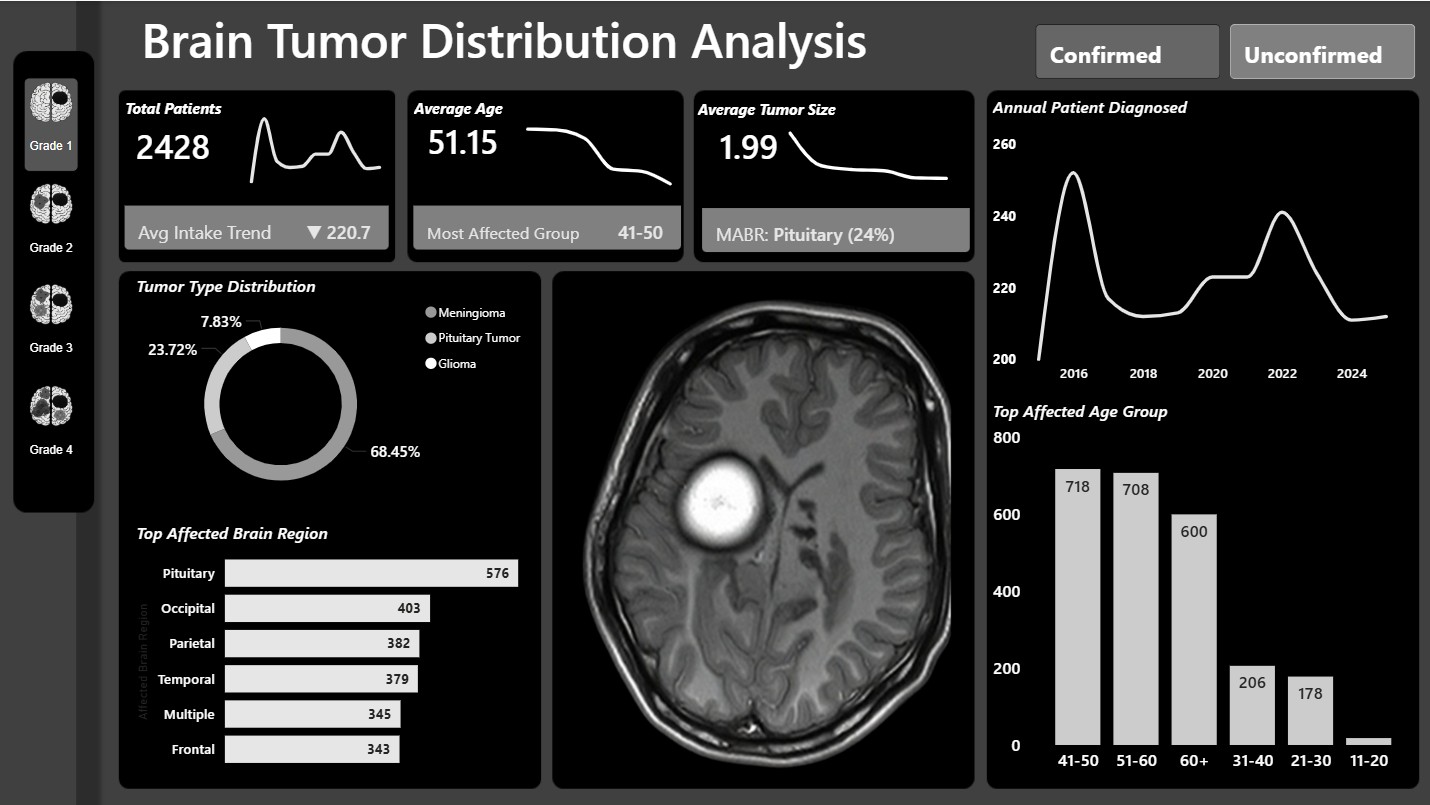

What the dashboard file says about the page in this screenshot:
{"tool":"powerbi","page":{"name":"BTDA","canvas":[1280,720],"ordinal":0},"visuals":[{"type":"cardVisual","fields":{"Data":["Count(Brain Tumor Data.Patient ID)"]},"box":[96.1,79.6,155.1,96.1],"z":0},{"type":"lineChart","fields":{"Category":["Brain Tumor Data.Date of Diagnosis.Variation.Date Hierarchy.Year"],"Y":["CountNonNull(Brain Tumor Data.Patient ID)"]},"box":[212.7,82.3,144.1,85.1],"z":1000},{"type":"cardVisual","fields":{"Data":["Count(Brain Tumor Data.Patient ID)"]},"box":[86,90.7,293,160.5],"z":2000},{"type":"textbox","box":[109.8,81,166,32.9],"z":3000},{"type":"cardVisual","fields":{"Data":["Avg(Brain Tumor Data.Age)"]},"box":[355.4,74.1,149.6,96.1],"z":4000},{"type":"textbox","box":[367.8,81,102.9,34.3],"z":5000},{"type":"cardVisual","fields":{"Data":["Count(Brain Tumor Data.Patient ID)"]},"box":[343.1,90.6,296.4,160.5],"z":6000},{"type":"lineChart","fields":{"Y":["CountNonNull(Brain Tumor Data.Patient ID)"],"Category":["Brain Tumor Data.Age Group"]},"box":[458.6,94.3,157.1,75.7],"z":7000},{"type":"cardVisual","fields":{"Data":["Count(Brain Tumor Data.Patient ID)"]},"box":[599.7,91.9,296.4,160.5],"z":8000},{"type":"cardVisual","fields":{"Data":["Avg(Brain Tumor Data.Tumor Size (cm))"]},"box":[615.7,85.7,121.4,84.3],"z":9000},{"type":"textbox","box":[620,82.9,142.9,32.9],"z":10000},{"type":"lineChart","fields":{"Category":["Brain Tumor Data.Affected Brain Region"],"Y":["Sum(Brain Tumor Data.Tumor Size (cm))"]},"box":[691.4,100,171.4,70],"z":11000},{"type":"advancedSlicerVisual","fields":{"Values":["Brain Tumor Data.Histology Confirmation"]},"box":[920.8,15.1,348.5,59],"z":12000},{"type":"ChicletSlicer1448559807354","fields":{"Category":["Tumor Images.Tumor Grade"],"Image":["Tumor Images.Icon URL"]},"box":[16.7,60.1,70.1,399.6],"z":13000},{"type":"imageDB603108E3FF4EBFB8047F5653368E8C","fields":{"imageUrl":["Tumor Images.Image URL"]},"box":[500.9,245.6,371.9,451.5],"z":14000},{"type":"donutChart","fields":{"Category":["Brain Tumor Data.Tumor Type"],"Y":["CountNonNull(Brain Tumor Data.Patient ID)"]},"box":[120.8,260.7,360.9,197.6],"z":15000},{"type":"textbox","box":[120.8,238.8,199,32.9],"z":16000},{"type":"clusteredBarChart","fields":{"Category":["Brain Tumor Data.Affected Brain Region"],"Y":["CountNonNull(Brain Tumor Data.Patient ID)"]},"box":[120.8,472,360.9,225],"z":17000},{"type":"textbox","box":[120.8,458.3,203.1,39.8],"z":18000},{"type":"lineChart","fields":{"Category":["Brain Tumor Data.Date of Diagnosis.Variation.Date Hierarchy.Year"],"Y":["CountNonNull(Brain Tumor Data.Patient ID)"]},"box":[882.3,113.9,374.6,236],"z":19000},{"type":"textbox","box":[882.3,79.6,200.3,38.4],"z":20000},{"type":"clusteredColumnChart","fields":{"Y":["CountNonNull(Brain Tumor Data.Patient ID)"],"Category":["Brain Tumor Data.Age Group"]},"box":[882.3,373.2,387,323.8],"z":21000},{"type":"textbox","box":[882.3,349.9,200.3,34.3],"z":22000},{"type":"textbox","box":[124.9,0,784.9,75.5],"z":23000}]}

Visuals, with their boxes in screenshot pixels (x1, y1, x2, y2), scaled from the page's 1280x720 canvas onto the 1430x805 screenshot:
cardVisual - Count(Brain Tumor Data.Patient ID): locate(107, 89, 281, 196)
lineChart - Brain Tumor Data.Date of Diagnosis.Variation.Date Hierarchy.Year x CountNonNull(Brain Tumor Data.Patient ID): locate(238, 92, 399, 187)
cardVisual - Count(Brain Tumor Data.Patient ID): locate(96, 101, 423, 281)
textbox: locate(123, 91, 308, 127)
cardVisual - Avg(Brain Tumor Data.Age): locate(397, 83, 564, 190)
textbox: locate(411, 91, 526, 129)
cardVisual - Count(Brain Tumor Data.Patient ID): locate(383, 101, 714, 281)
lineChart - CountNonNull(Brain Tumor Data.Patient ID) x Brain Tumor Data.Age Group: locate(512, 105, 688, 190)
cardVisual - Count(Brain Tumor Data.Patient ID): locate(670, 103, 1001, 282)
cardVisual - Avg(Brain Tumor Data.Tumor Size (cm)): locate(688, 96, 823, 190)
textbox: locate(693, 93, 852, 129)
lineChart - Brain Tumor Data.Affected Brain Region x Sum(Brain Tumor Data.Tumor Size (cm)): locate(772, 112, 964, 190)
advancedSlicerVisual - Brain Tumor Data.Histology Confirmation: locate(1029, 17, 1418, 83)
ChicletSlicer1448559807354 - Tumor Images.Tumor Grade x Tumor Images.Icon URL: locate(19, 67, 97, 514)
imageDB603108E3FF4EBFB8047F5653368E8C - Tumor Images.Image URL: locate(560, 275, 975, 779)
donutChart - Brain Tumor Data.Tumor Type x CountNonNull(Brain Tumor Data.Patient ID): locate(135, 291, 538, 512)
textbox: locate(135, 267, 357, 304)
clusteredBarChart - Brain Tumor Data.Affected Brain Region x CountNonNull(Brain Tumor Data.Patient ID): locate(135, 528, 538, 779)
textbox: locate(135, 512, 362, 557)
lineChart - Brain Tumor Data.Date of Diagnosis.Variation.Date Hierarchy.Year x CountNonNull(Brain Tumor Data.Patient ID): locate(986, 127, 1404, 391)
textbox: locate(986, 89, 1209, 132)
clusteredColumnChart - CountNonNull(Brain Tumor Data.Patient ID) x Brain Tumor Data.Age Group: locate(986, 417, 1418, 779)
textbox: locate(986, 391, 1209, 430)
textbox: locate(140, 0, 1016, 84)
